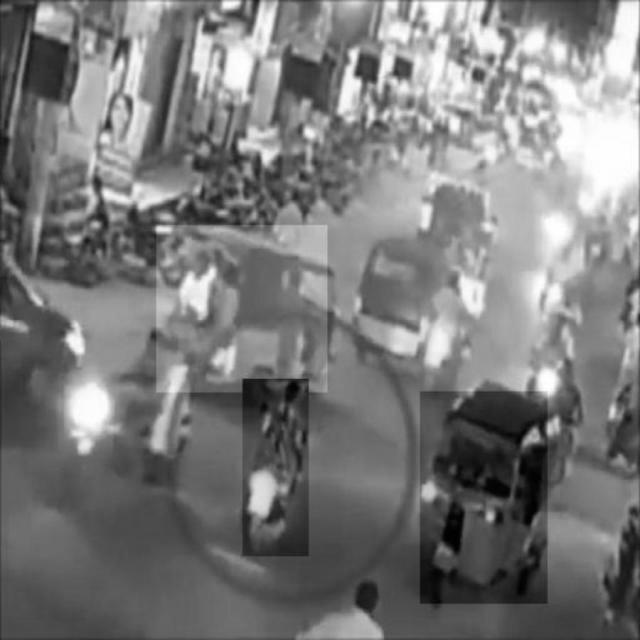vehicle: (157, 224, 327, 392), (420, 392, 548, 604), (243, 380, 309, 557), (352, 243, 423, 374)
